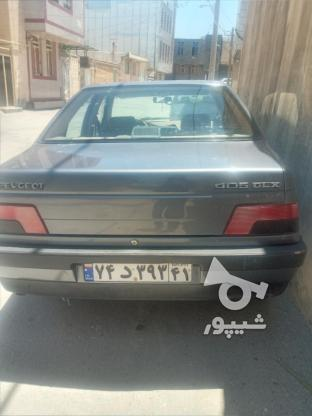car: (83, 260, 194, 286)
